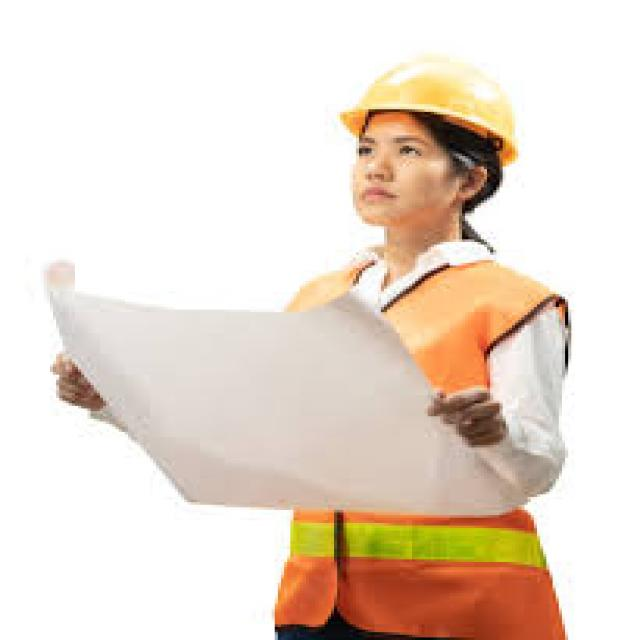Reflective-Jacket: (250, 242, 574, 640)
Safety-Helmet: (334, 45, 528, 162)
